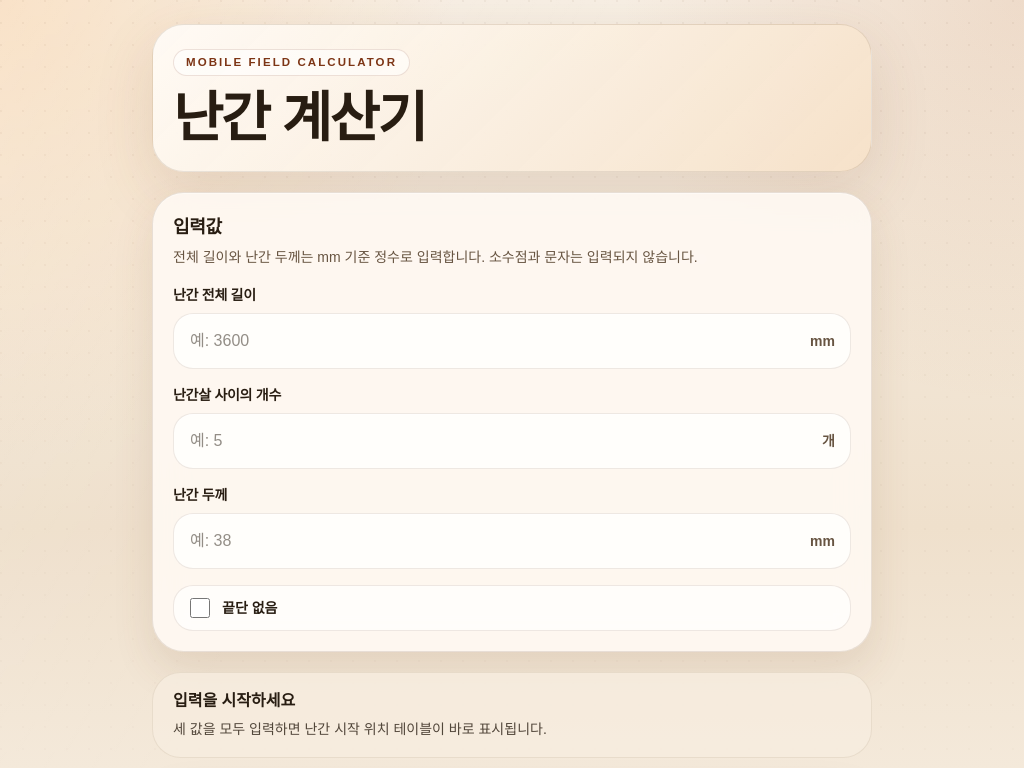
Test: FrameCalcApp › calculates internal rails when the no-end-rails option is selected
Click the checkbox labelled "끝단 없음" at point(200, 608), box [190, 598, 210, 618]
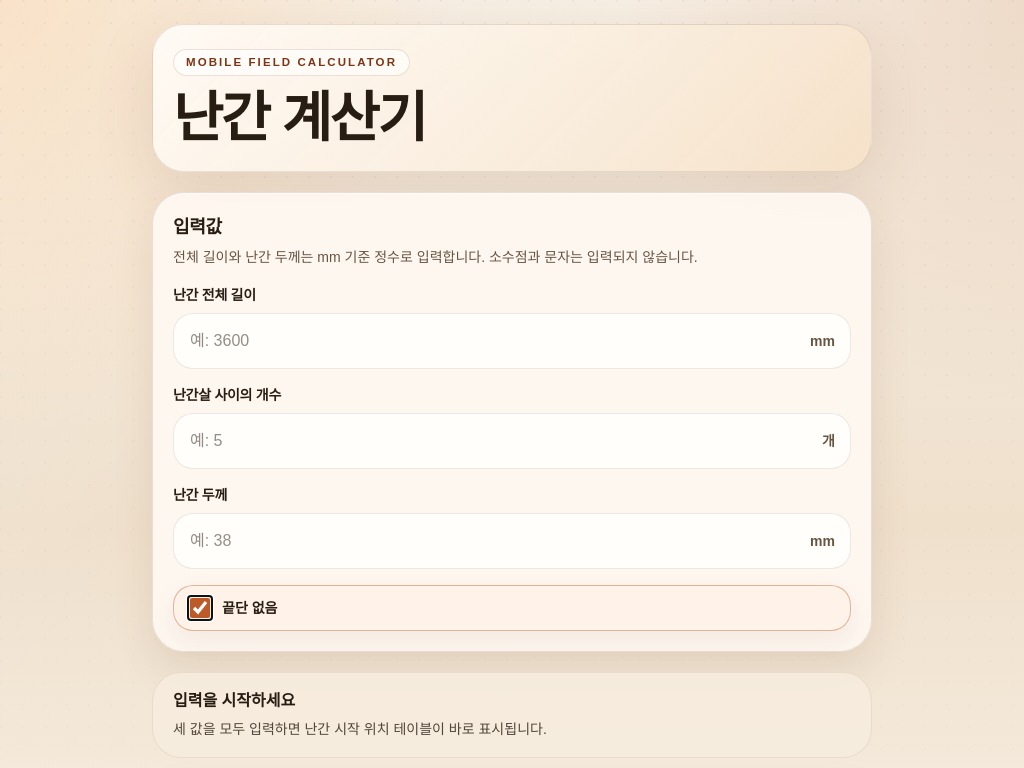
Type "3600" into the field labelled "난간 전체 길이" at point(512, 341), box [173, 313, 851, 369]
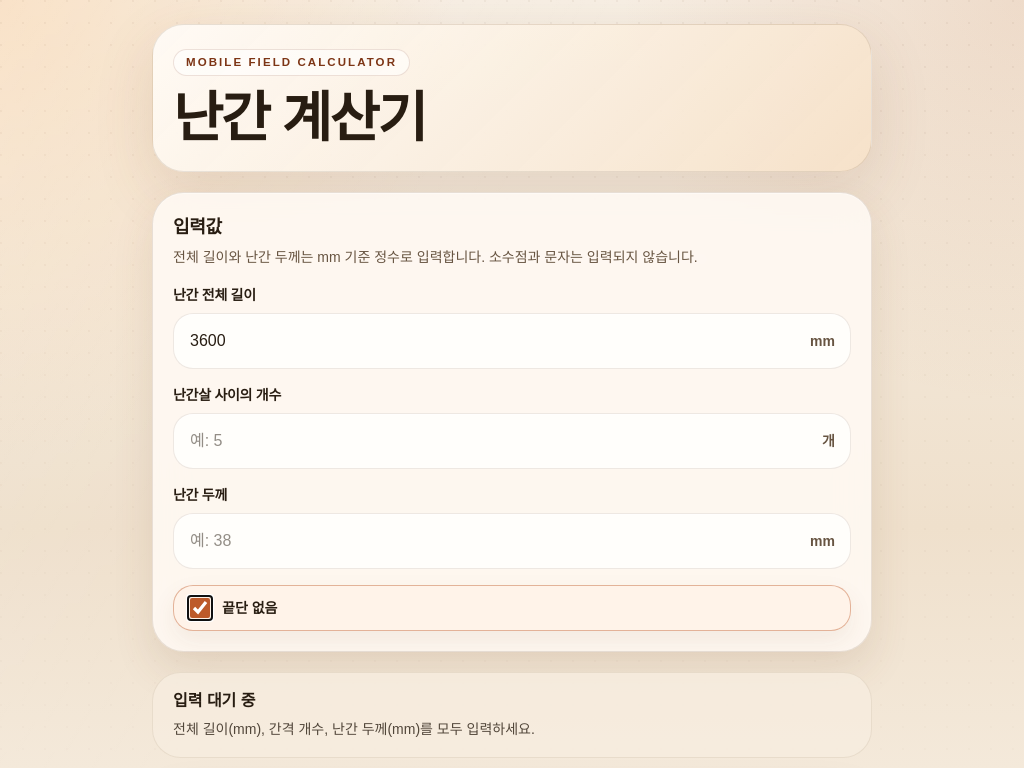
Type "5" into the field labelled "난간살 사이의 개수" at point(512, 441), box [173, 413, 851, 469]
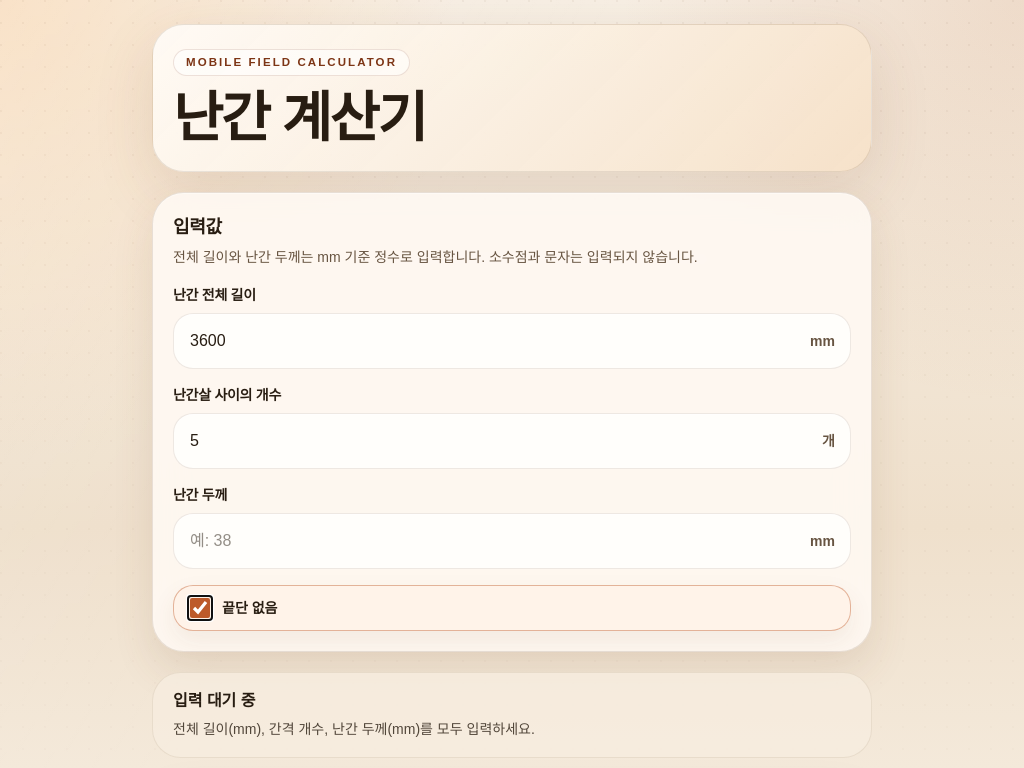
Type "38" into the field labelled "난간 두께" at point(512, 541), box [173, 513, 851, 569]
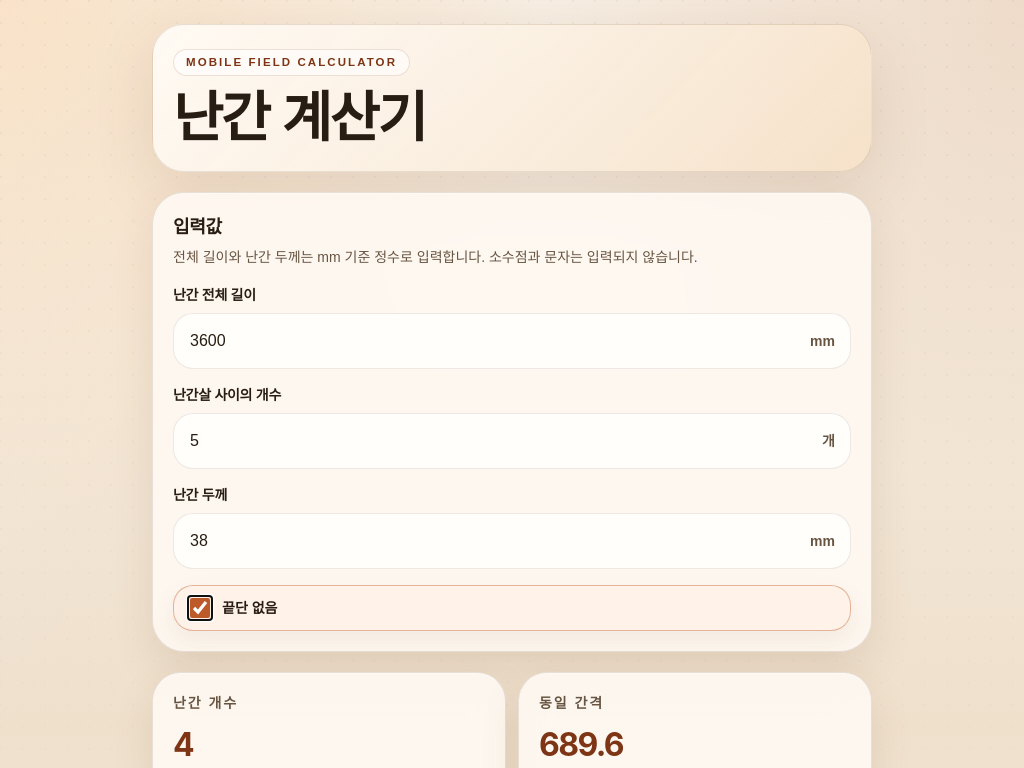
Expected: the text "689.6" is shown, [539, 725, 623, 764]
